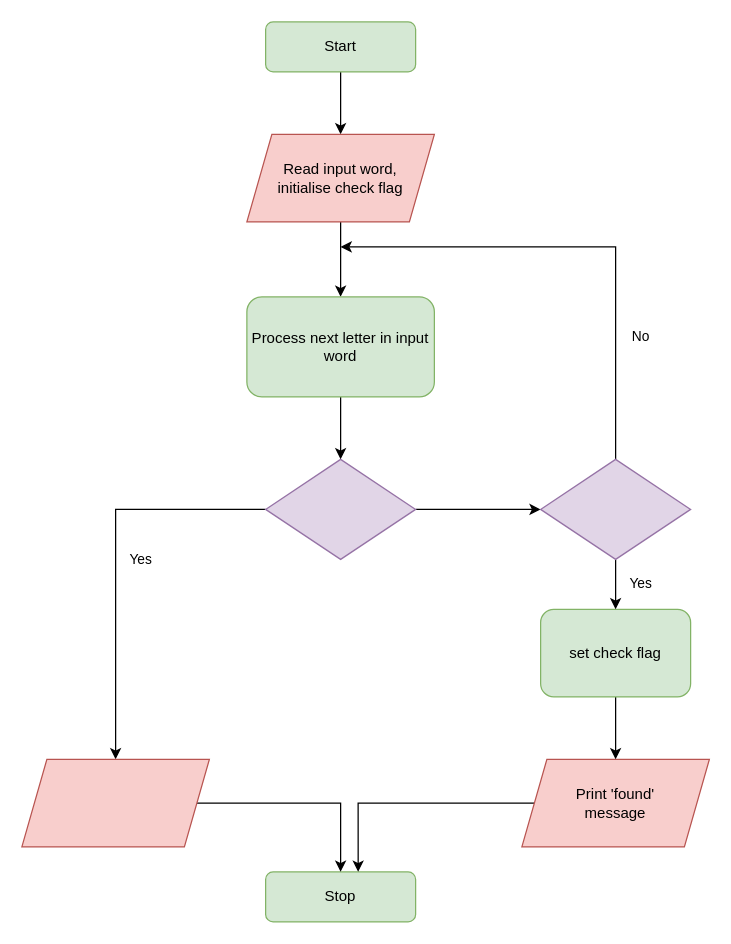
Image size: 731x944. Some labels were removed from this diagram. Each missing label, with the box of its shape:
At end of word?: (264, 458, 416, 559)
letter in 'aeiou'?: (539, 458, 691, 559)
Print 'not found' message: (21, 758, 209, 847)
